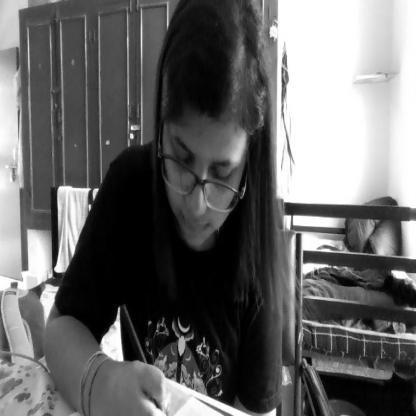Distracted: (158, 1, 264, 270)
